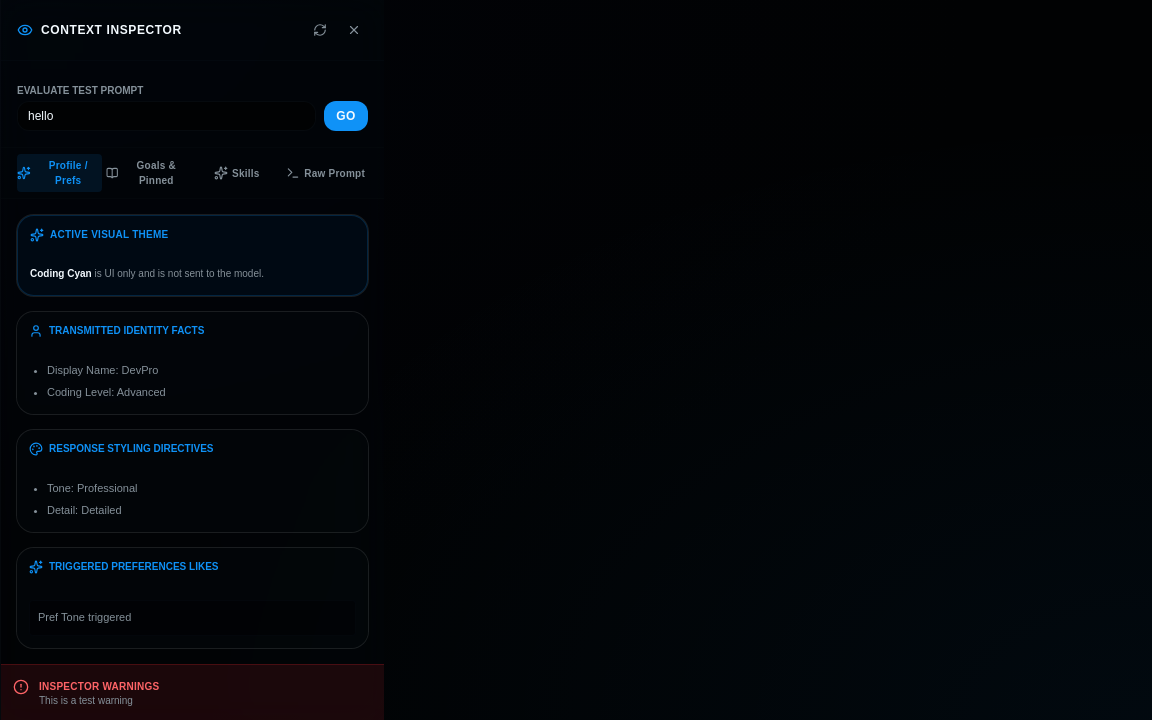
Test: ContextInspector Unit & Integration Tests › 4. Tabs render and change content correctly
Expected: the text "Profile / Prefs" is shown, left=49, top=160, right=88, bottom=186
Expected: the text "Goals & Pinned" is shown, left=136, top=160, right=176, bottom=186
// Switch to Goals & Pinned
Click the button "Goals & Pinned". click: [148, 173]
box: left=106, top=154, right=191, bottom=192
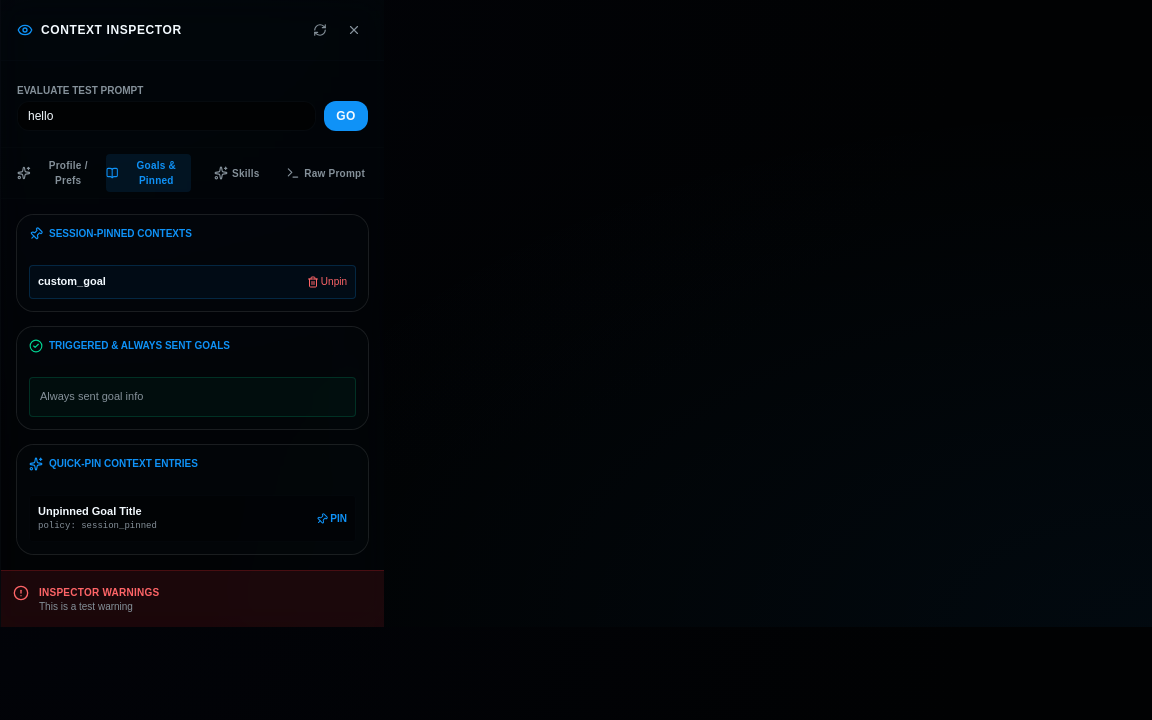
Expected: the text "Session-Pinned Contexts" is shown, left=49, top=227, right=192, bottom=241
Expected: the text "Triggered & Always Sent Goals" is shown, left=49, top=339, right=230, bottom=353
Expected: the text "Quick-Pin Context entries" is shown, left=49, top=457, right=198, bottom=471
// Switch to Raw Prompt
Click the button "Raw Prompt". click: [326, 173]
box: left=283, top=154, right=368, bottom=192
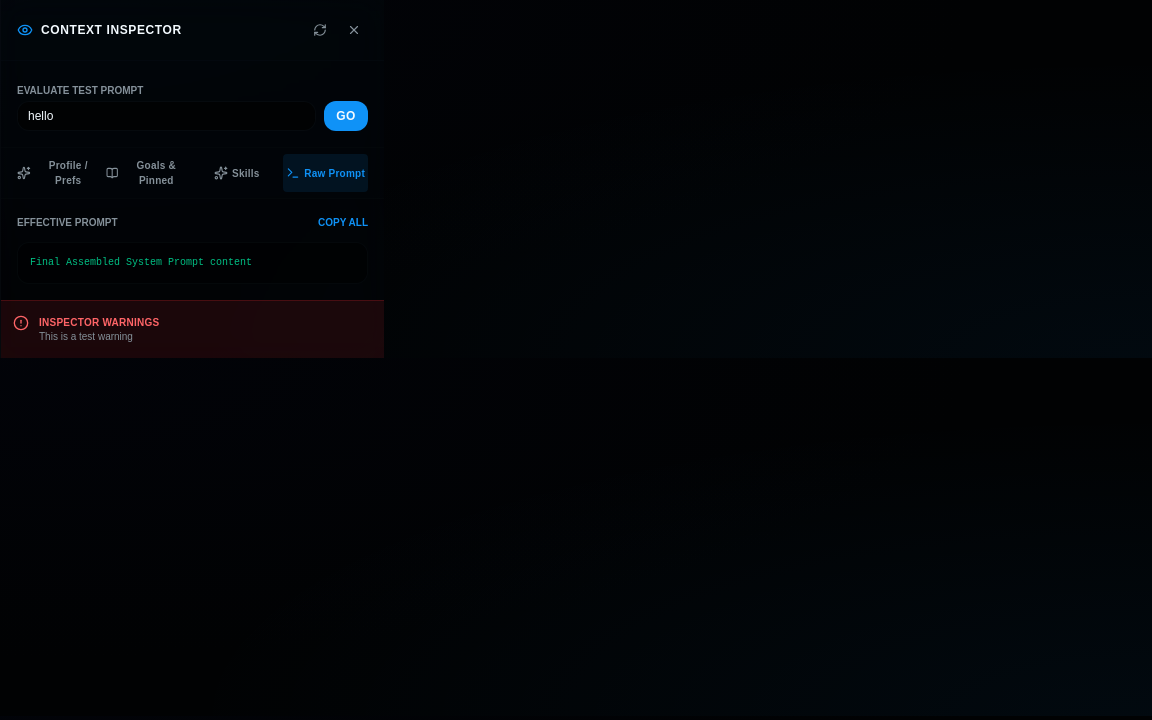
Expected: the text "Effective Prompt" is shown, left=17, top=215, right=118, bottom=230
Expected: the text "Final Assembled System Prompt content" is shown, left=17, top=242, right=368, bottom=284
